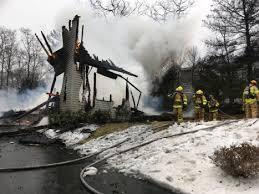smoke: (44, 2, 221, 69), (87, 65, 169, 118), (0, 71, 62, 111)
